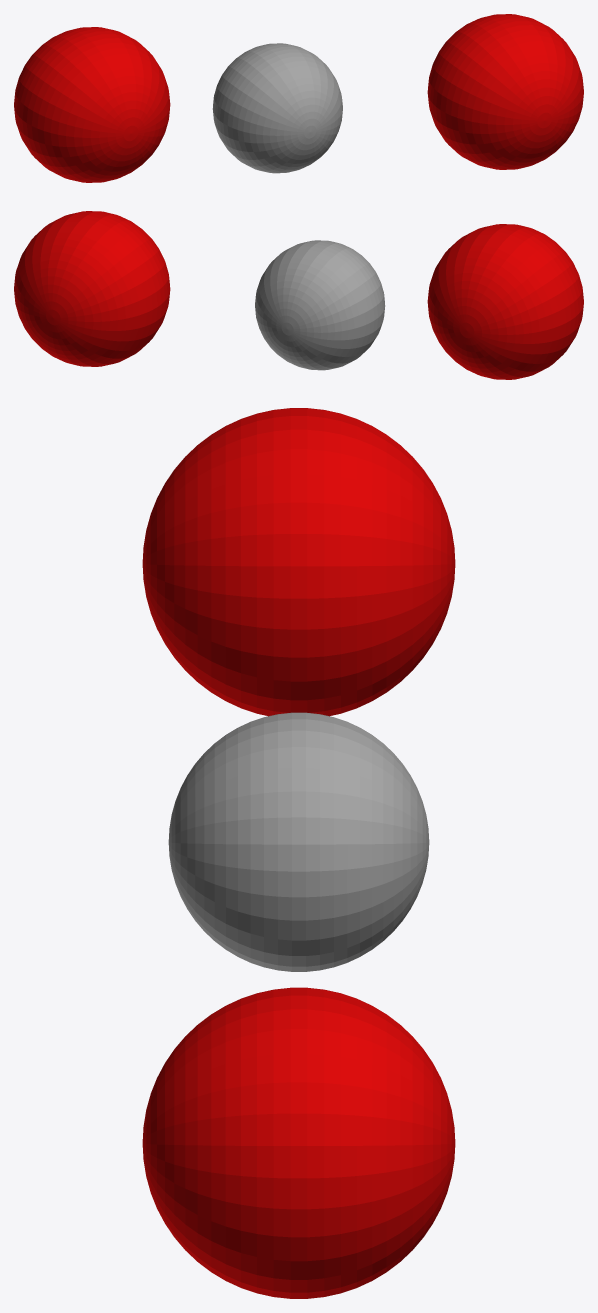
Rendered from Titanium Dioxide.glb.
3 renders of one model, top to bottom at view 1: azimuth 30°, elevation 25°; view 2: azimuth 150°, elevation 25°; view 3: azimuth 270°, elevation 25°, orthographic. The views are drawn at different scales.
Parts seen in each view (by area): view 1: world; view 2: world; view 3: world.
Part boxes in pixels (left/top/right/bottom): world: left=14, top=14, right=583, bottom=182; world: left=14, top=211, right=583, bottom=379; world: left=142, top=408, right=455, bottom=1298.
Bounding box in the file's own units: 4.86 × 1.94 × 1.2.
